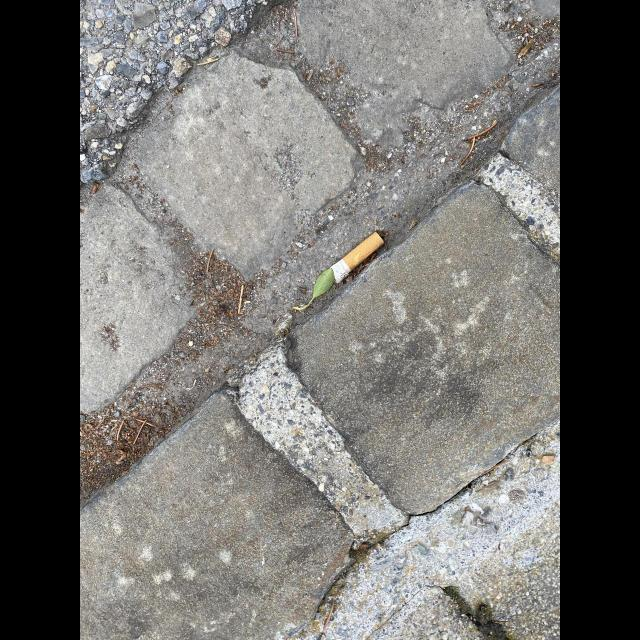cigarette: (330, 231, 384, 283)
